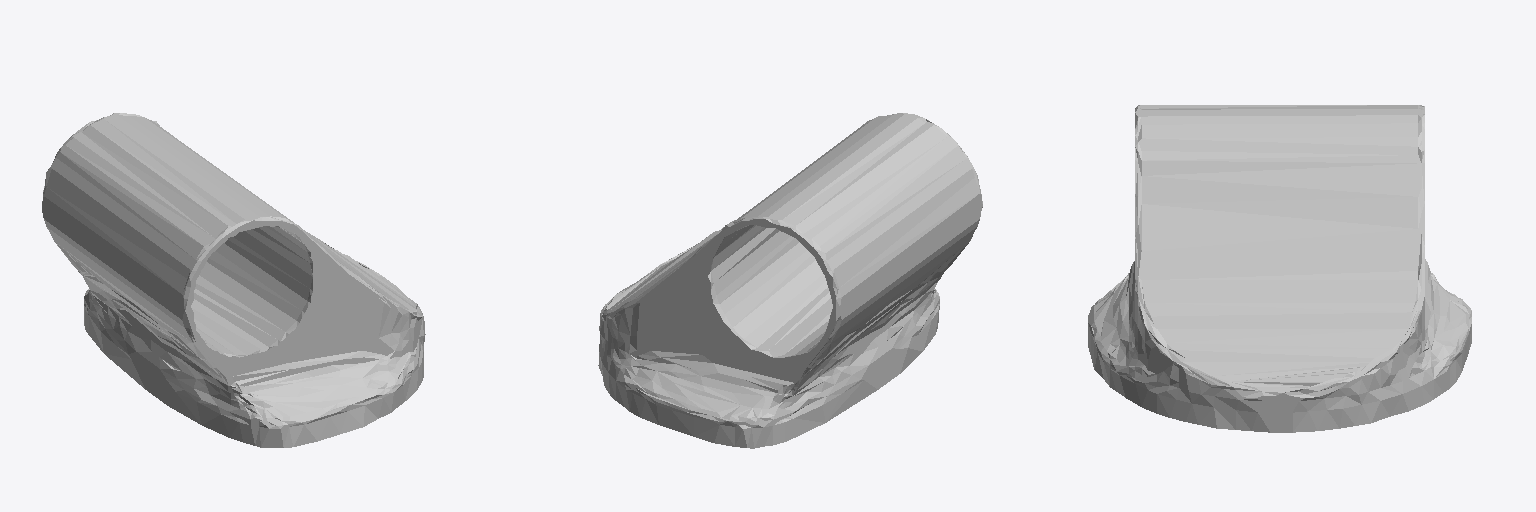
Rendered from head_pan.obj.
3 renders of one model, left to right at view 1: azimuth 30°, elevation 25°; view 2: azimuth 150°, elevation 25°; view 3: azimuth 270°, elevation 25°, orthographic.
Bounding box in the file's own units: 0.105 × 0.075 × 0.122.